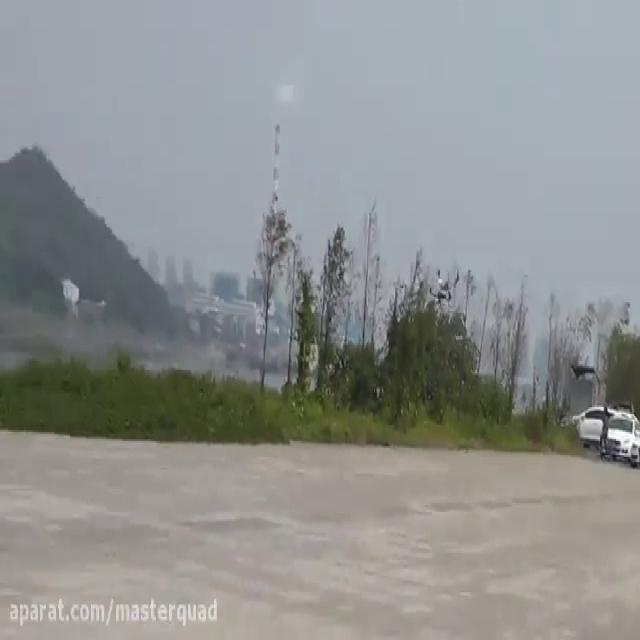drone: (426, 262, 462, 302)
